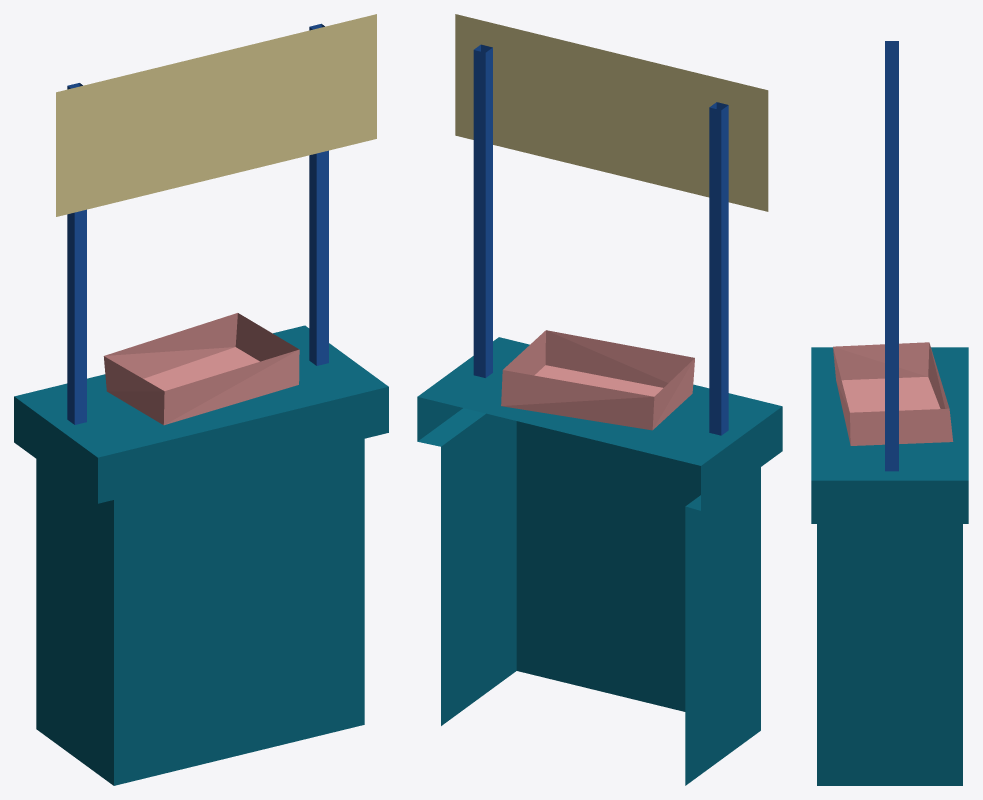
The model's file is inicio.fbx.
The picture shows the model from 3 angles, left to right: view 1: azimuth 30°, elevation 25°; view 2: azimuth 150°, elevation 25°; view 3: azimuth 270°, elevation 25°; orthographic projection. The views are drawn at different scales.
Visible parts, largest first — view 1: puesto_inicio; view 2: puesto_inicio; view 3: puesto_inicio.
Part boxes in pixels (x1,y1,x2,y2): puesto_inicio: [14, 14, 388, 785]; puesto_inicio: [417, 14, 782, 785]; puesto_inicio: [811, 41, 968, 785].
Size of the model in its own units: 39.47 by 80.24 by 17.82.
